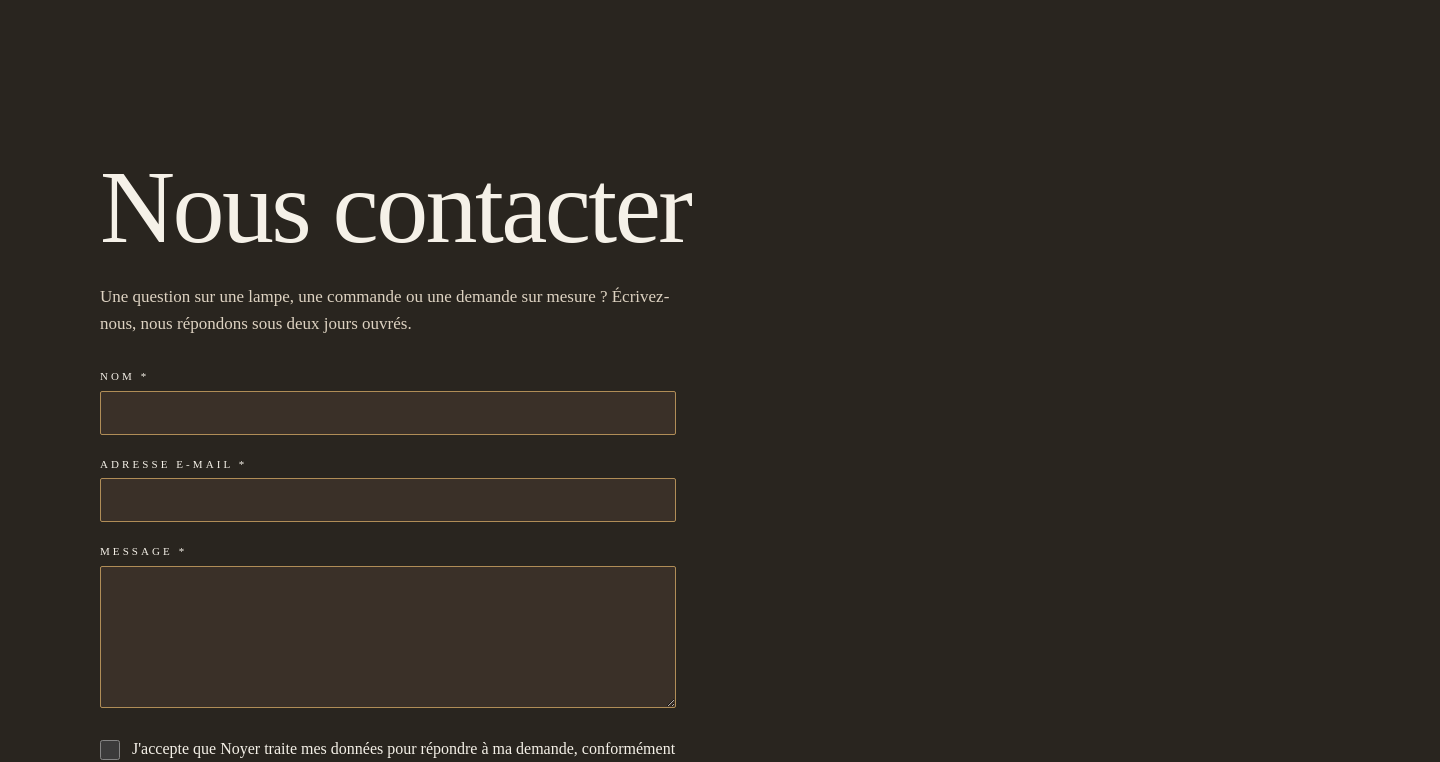
Critère 2 : consentement au traitement des données (nLPD) › échec serveur : erreur affichée, pas de faux succès
The image size is (1440, 762).
In the field labelled "Nom *": (388, 413) [100,391,676,435], type "Bob"
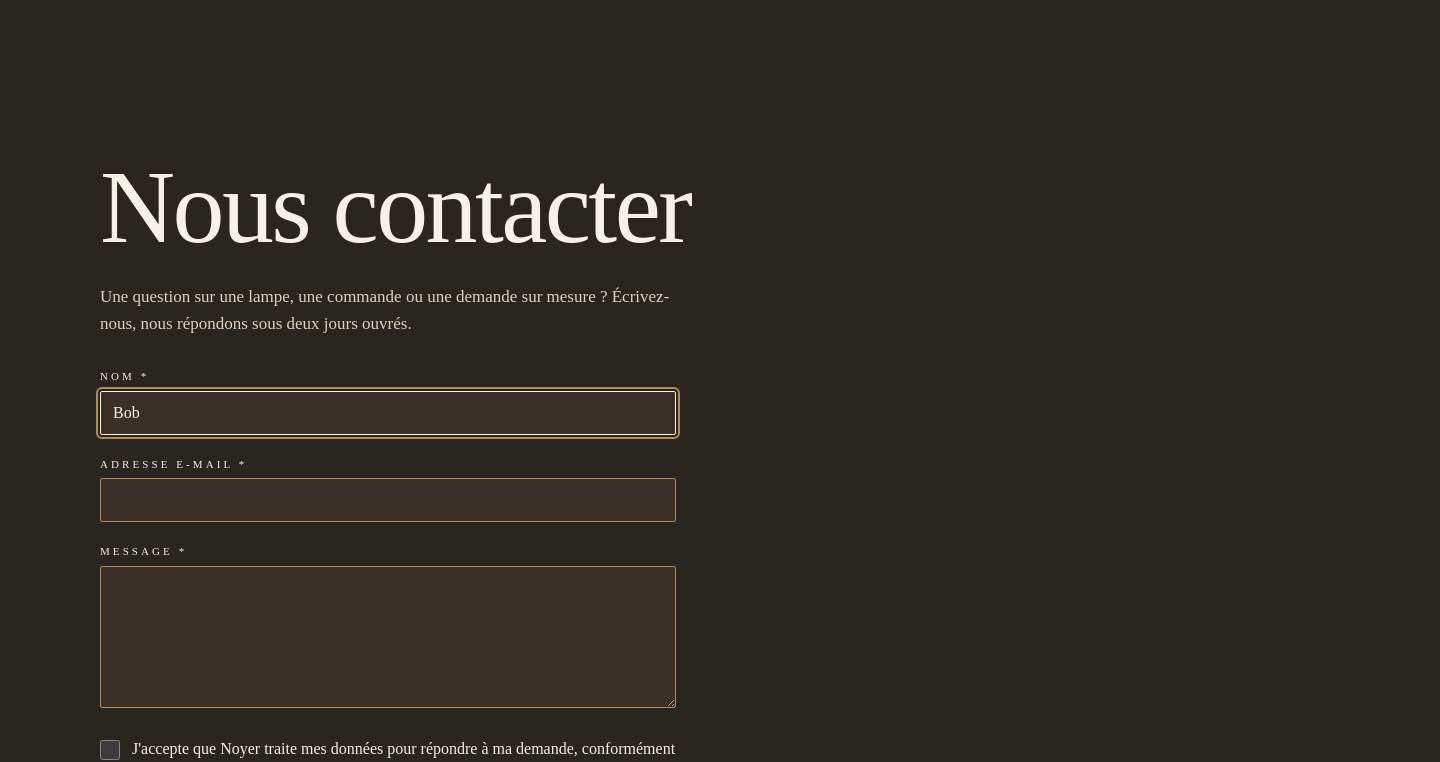
In the field labelled "Adresse e-mail *": (388, 500) [100,478,676,522], type "bob@exemple.ch"
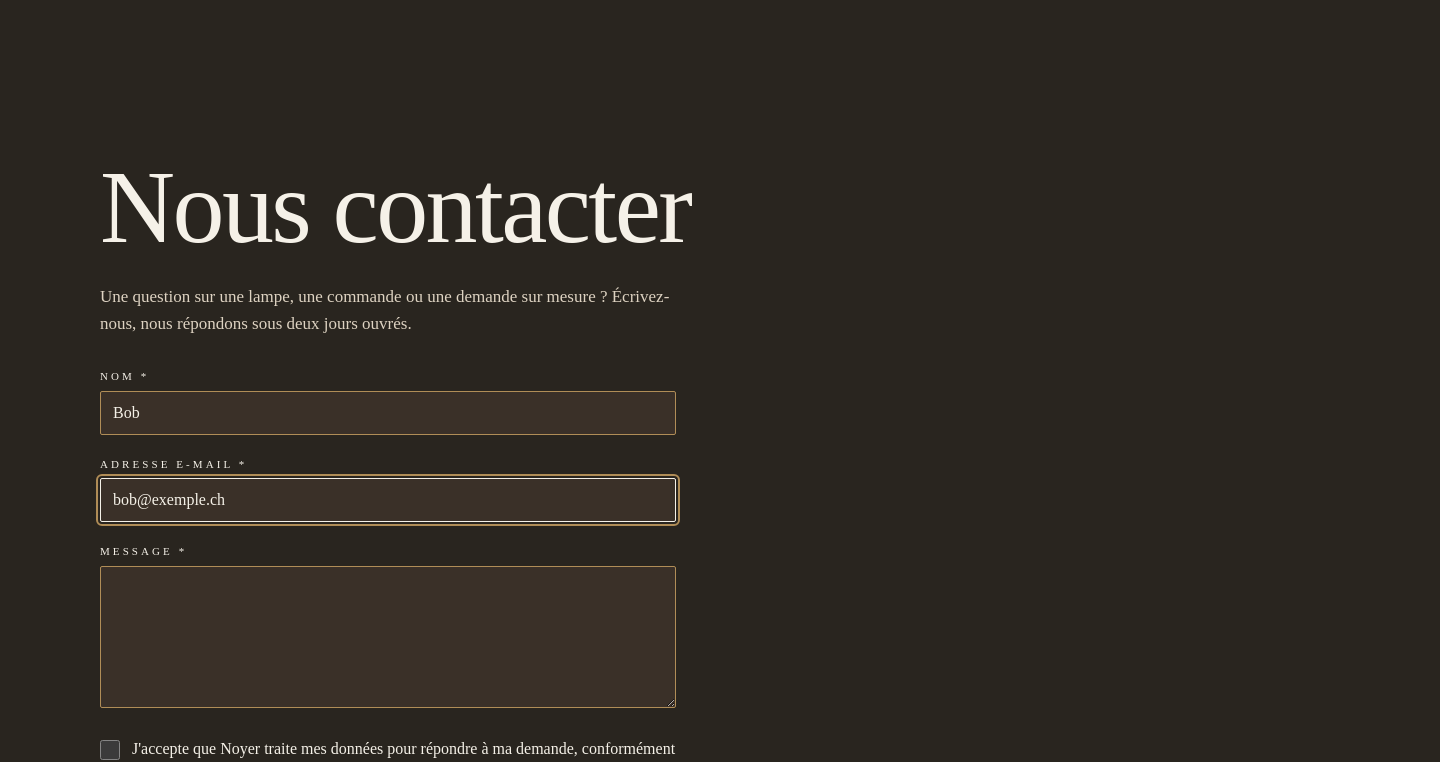
In the text box labelled "Message *": (388, 636) [100,566,676,708], type "Une question"
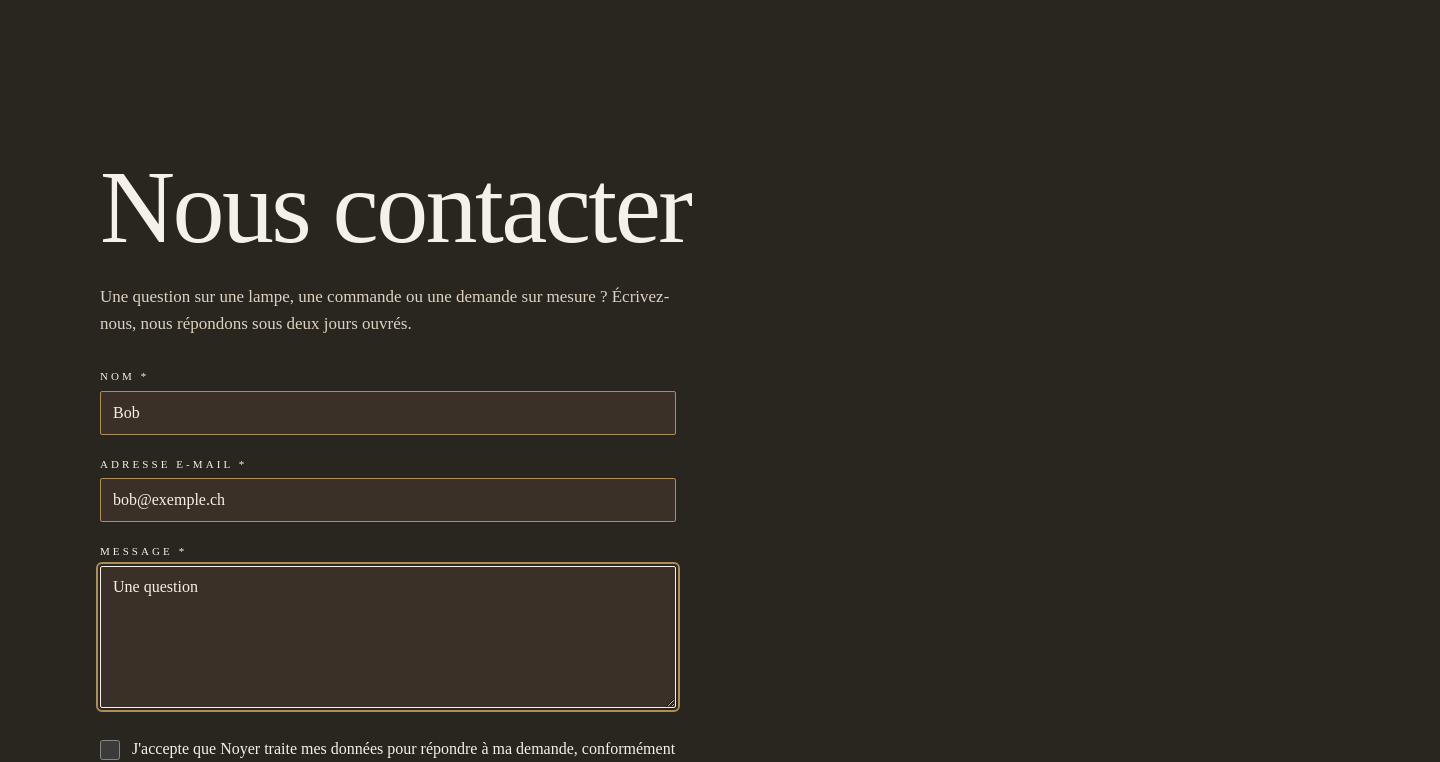
Click the checkbox: (110, 750) [100,740,120,760]
(page scrolled)
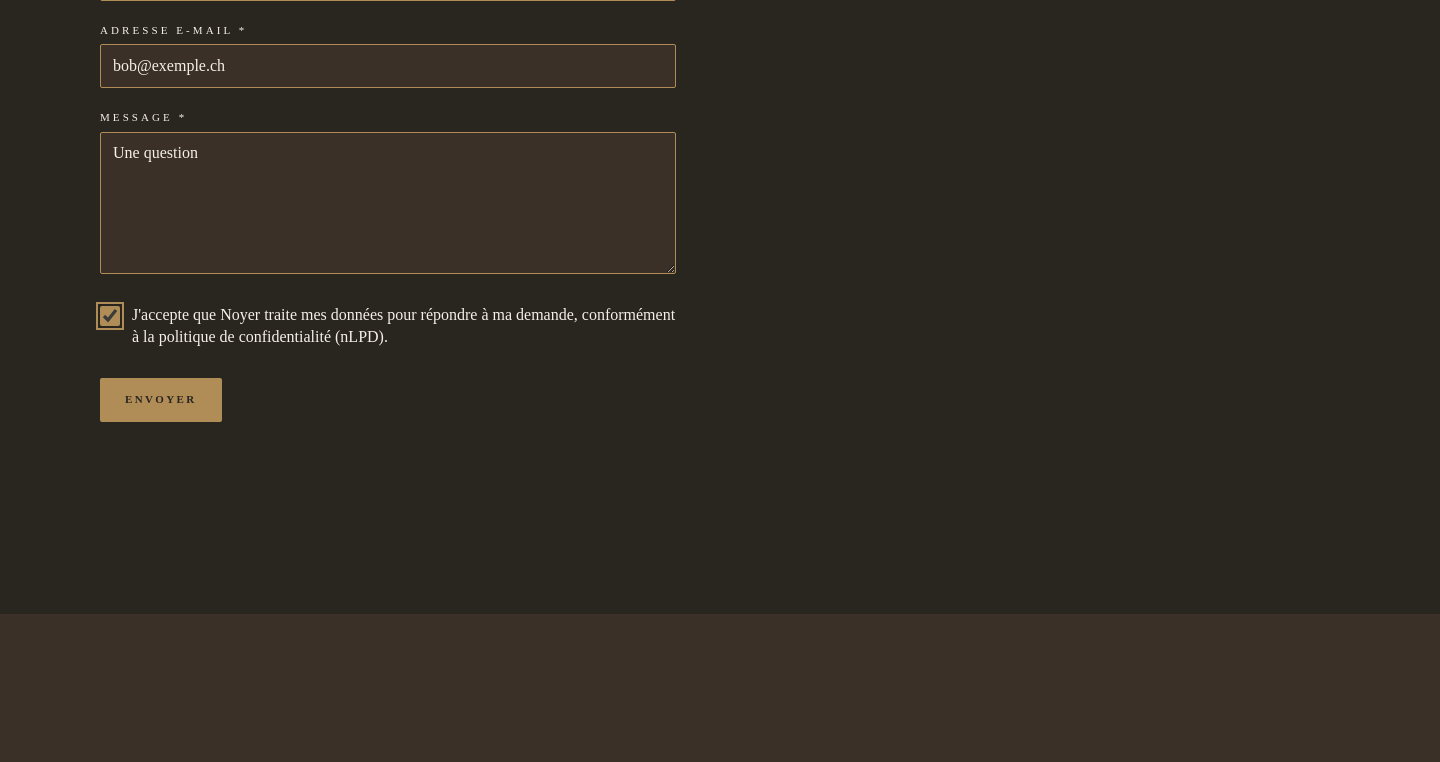
Click the button "Envoyer": (161, 400) [100,378,222,422]
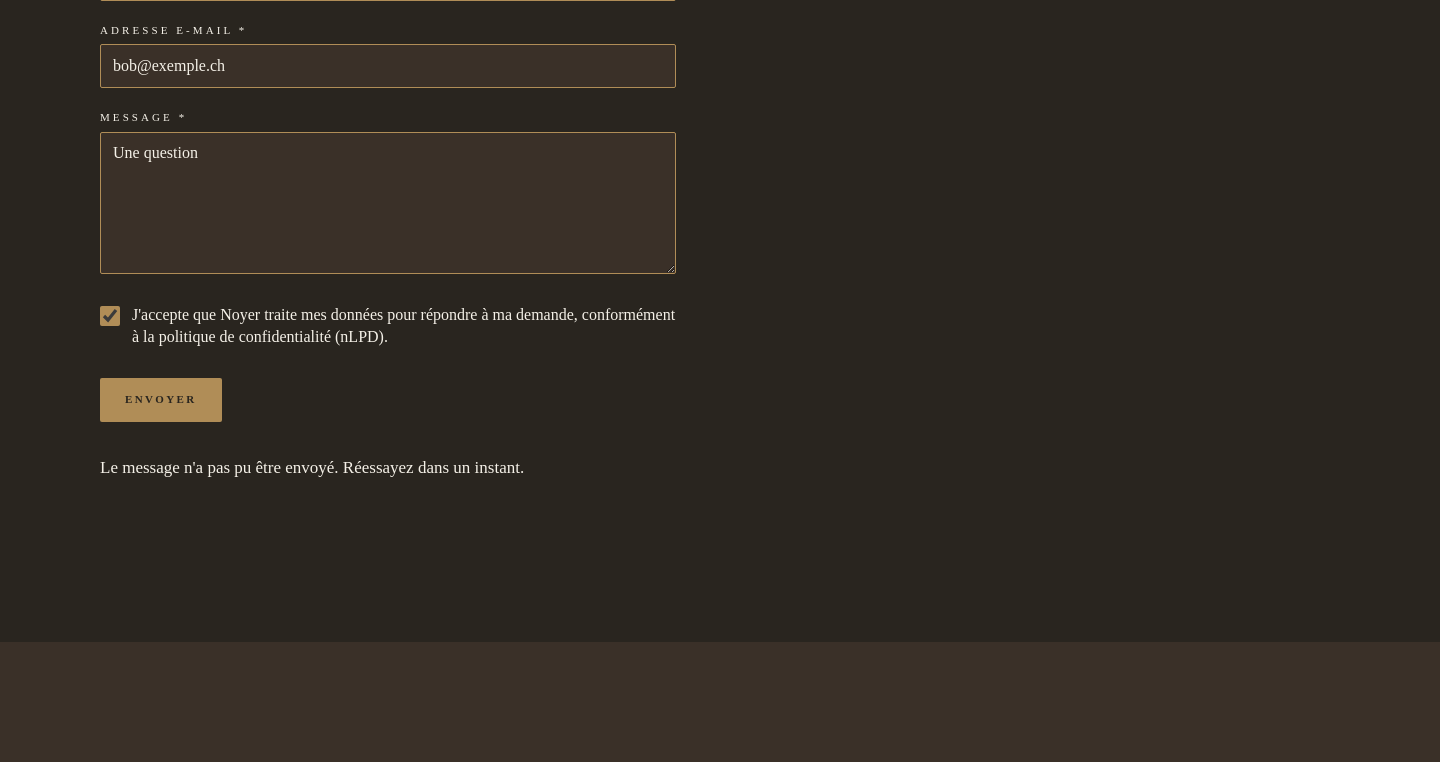
Expected: the text "Le message n'a pas pu être envoyé. Réessayez dans un instant." is shown, [100,458,524,477]
